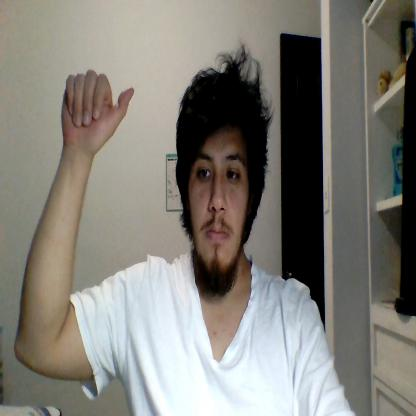A: (61, 69, 134, 154)
